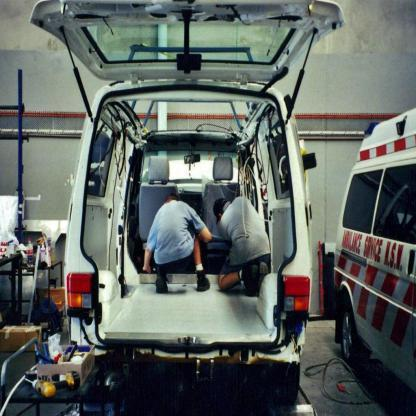Ambulance - v1 Ambulance last generate: (330, 107, 416, 399)
